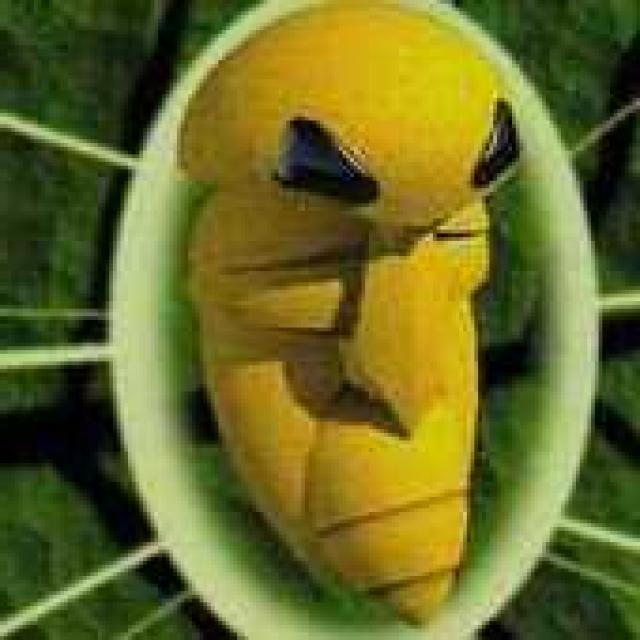Kakuna: (190, 2, 529, 631)
